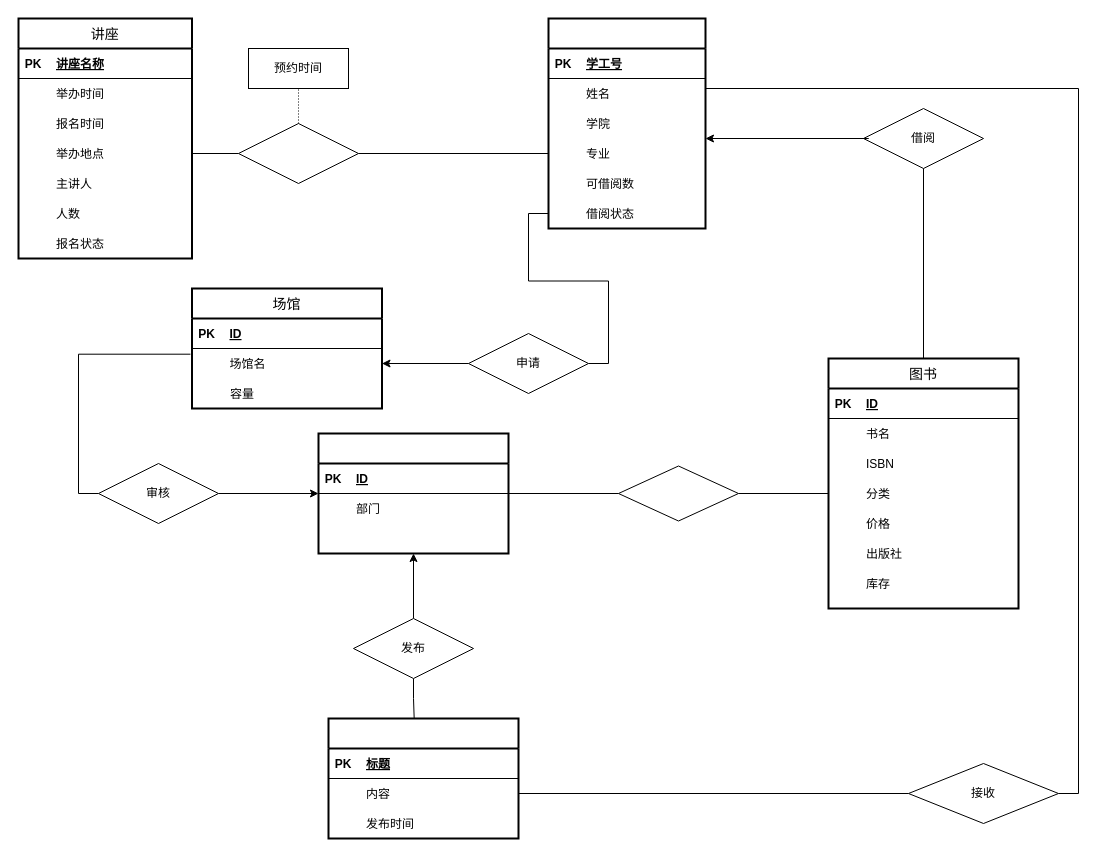
Image size: 1097x856. Some labels were removed from this diagram. Here are the shapes that lost their labels. From the top down, the box of each, then its label:
(547, 17, 706, 229): 读者
(238, 122, 358, 184): 预约
(317, 432, 509, 554): 管理员
(618, 465, 738, 521): 上架
(327, 717, 519, 839): 公告
